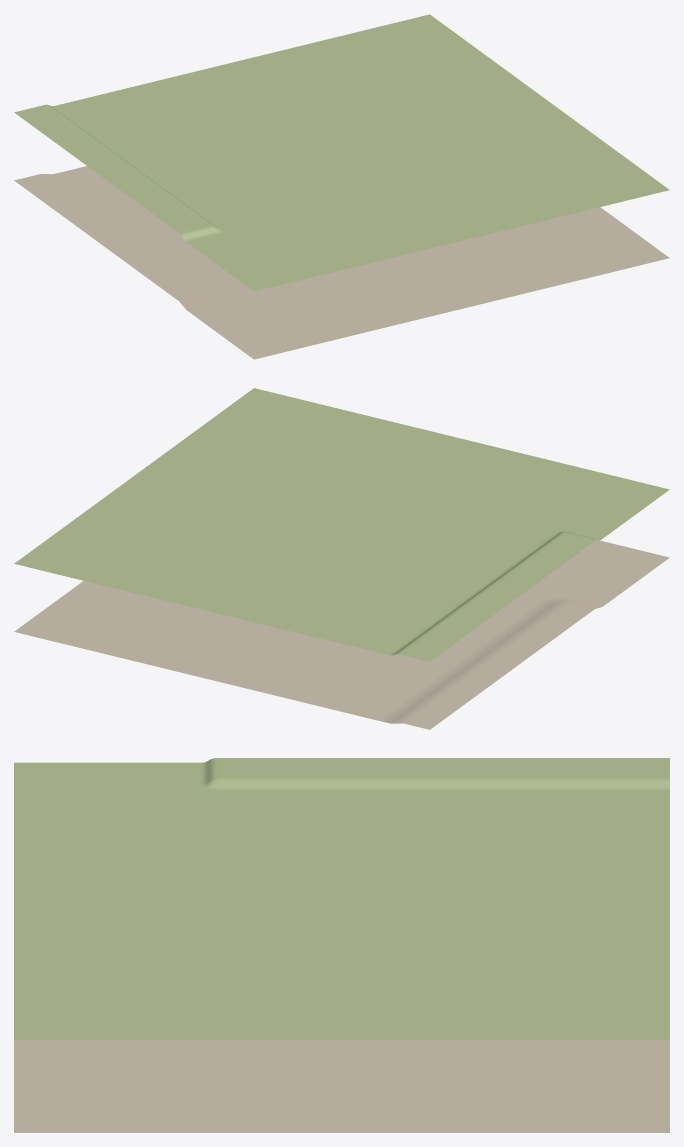
3 renders of one model, top to bottom at view 1: azimuth 30°, elevation 25°; view 2: azimuth 150°, elevation 25°; view 3: azimuth 270°, elevation 25°, orthographic. The views are drawn at different scales.
Visible parts, largest first — view 1: s_0_5__grass, s_0_5__soil; view 2: s_0_5__grass, s_0_5__soil; view 3: s_0_5__grass, s_0_5__soil.
Boxes of the visible parts, <box> form: s_0_5__grass: <box>14,14,669,291</box>; s_0_5__soil: <box>14,166,669,359</box>; s_0_5__grass: <box>14,388,669,661</box>; s_0_5__soil: <box>14,540,669,729</box>; s_0_5__grass: <box>14,758,669,1039</box>; s_0_5__soil: <box>14,1040,669,1132</box>.
Bounding box in the file's own units: 128 × 21.01 × 128.
